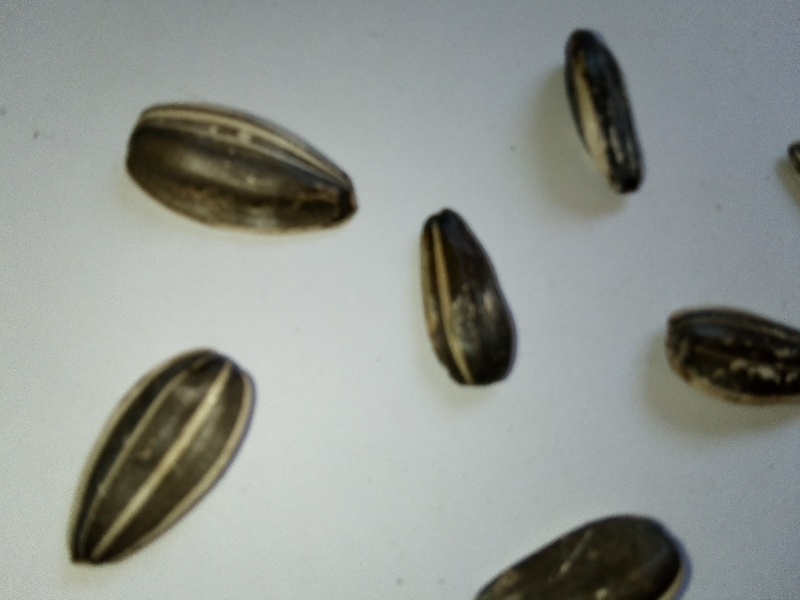girasol: (59, 338, 268, 575), (117, 96, 369, 239), (409, 203, 527, 399), (557, 21, 651, 201)
